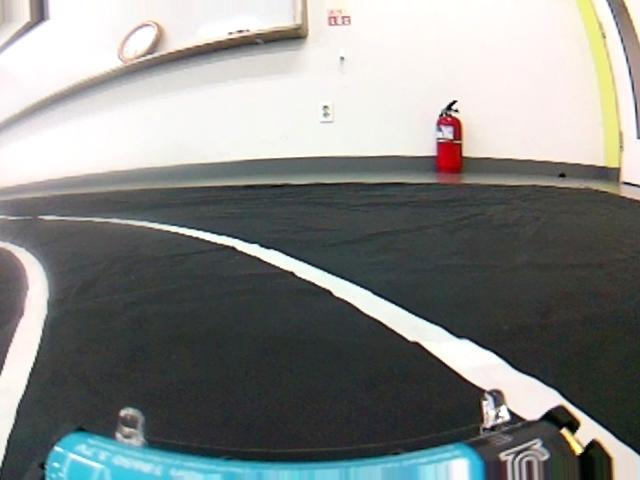left: (1, 212, 640, 480)
